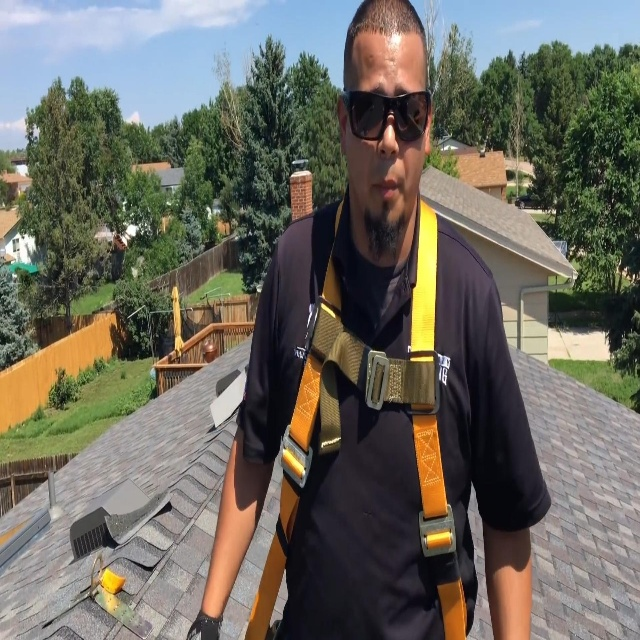Arnes_seguridad: (238, 174, 465, 640)
